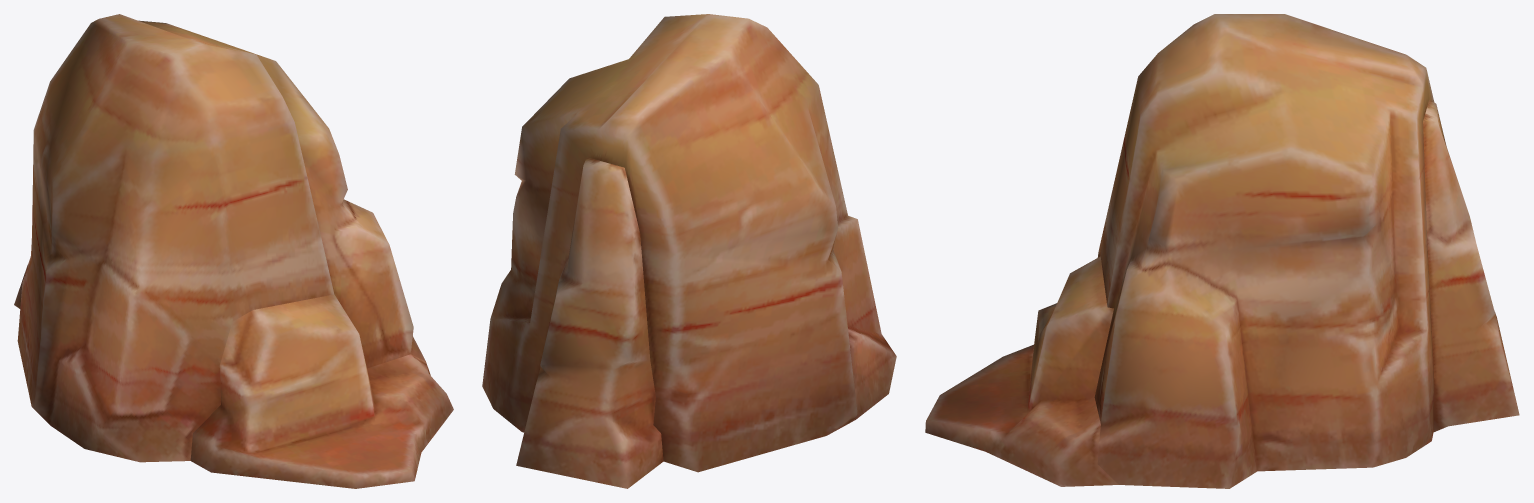
Rendered from PF_Desertnew_mountain01.fbx.
The picture shows the model from 3 angles, left to right: view 1: azimuth 30°, elevation 25°; view 2: azimuth 150°, elevation 25°; view 3: azimuth 270°, elevation 25°; orthographic projection. The views are drawn at different scales.
Visible parts, largest first — view 1: PF_Desertnew_mountain01; view 2: PF_Desertnew_mountain01; view 3: PF_Desertnew_mountain01.
Part boxes in pixels (x1,y1,x2,y2): PF_Desertnew_mountain01: [14, 14, 453, 488]; PF_Desertnew_mountain01: [482, 14, 896, 488]; PF_Desertnew_mountain01: [925, 14, 1519, 488].
Bounding box in the file's own units: 27.33 × 26.83 × 39.22.
